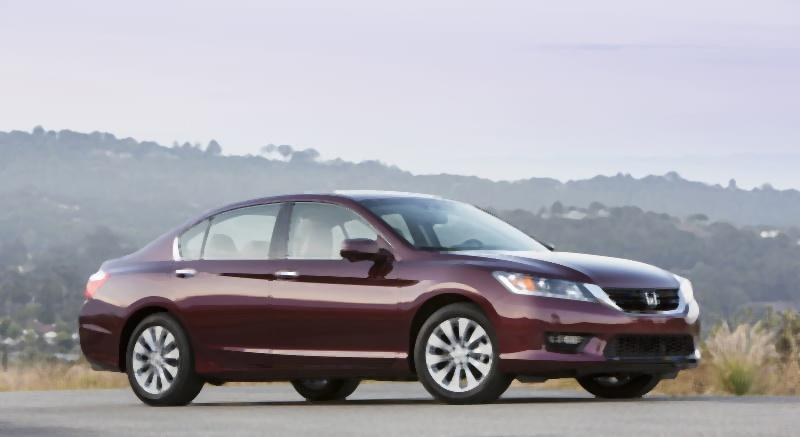Car hood: (435, 246, 702, 287)
Driver-s door - -F-R-: (276, 192, 401, 361)
Fender - -F-R-: (394, 250, 507, 396)
Fender - -R-R-: (108, 252, 191, 358)
Front bumper: (483, 300, 708, 380)
Headlight - -L-: (670, 273, 705, 320)
Headlight - -R-: (480, 260, 608, 306)
Passenger-s door - -R-R-: (180, 195, 286, 368)
Rear bumper: (65, 323, 137, 383)
Rear light - -R-: (79, 264, 119, 306)
Side bumper - -R-: (190, 354, 428, 389)
Side mirror - -R-: (331, 230, 396, 275)
